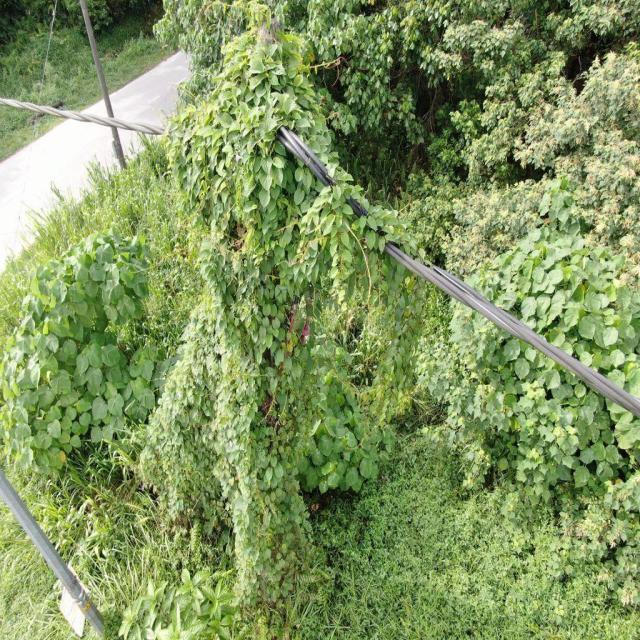critical vegetation: (161, 14, 390, 567)
